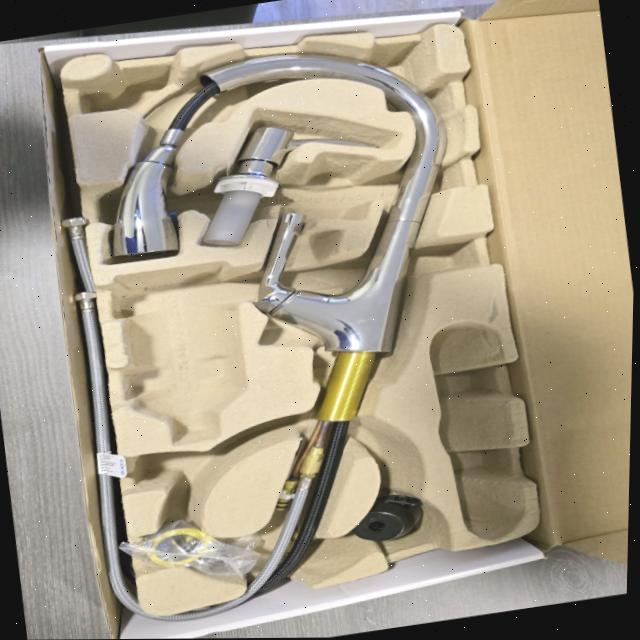1: (110, 55, 448, 596)
2: (201, 125, 381, 245)
3m: (115, 264, 246, 448)
4m: (427, 320, 526, 541)
5: (354, 493, 425, 540)
6: (122, 520, 261, 577)
7m: (127, 431, 266, 514)
